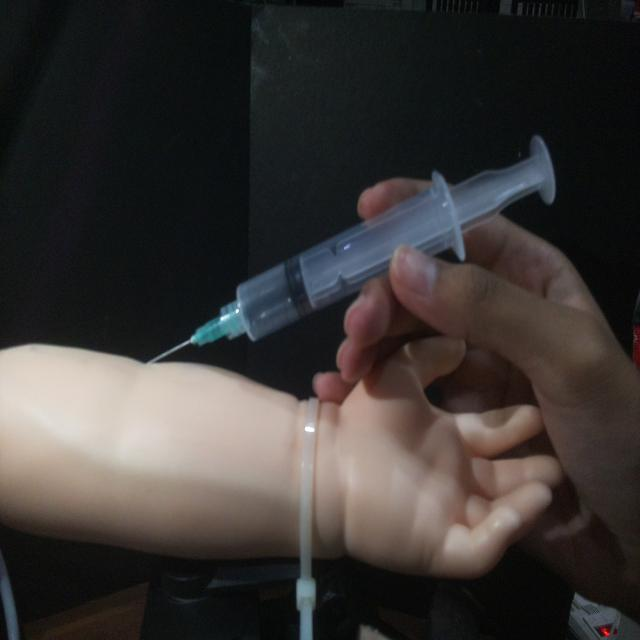26deg: (142, 129, 560, 367)
